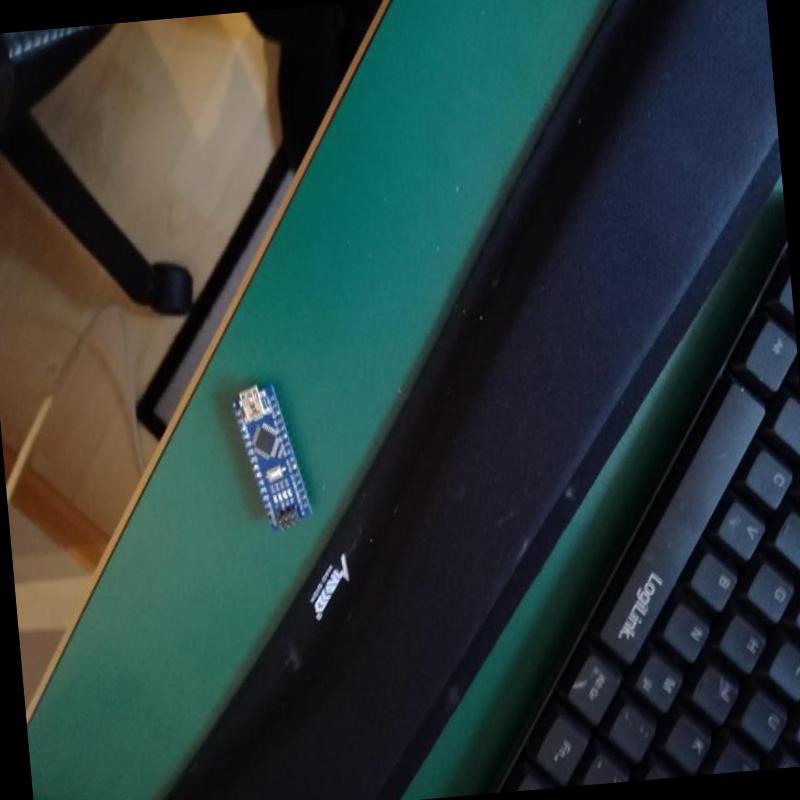Arduino_Nano: (222, 377, 321, 541)
